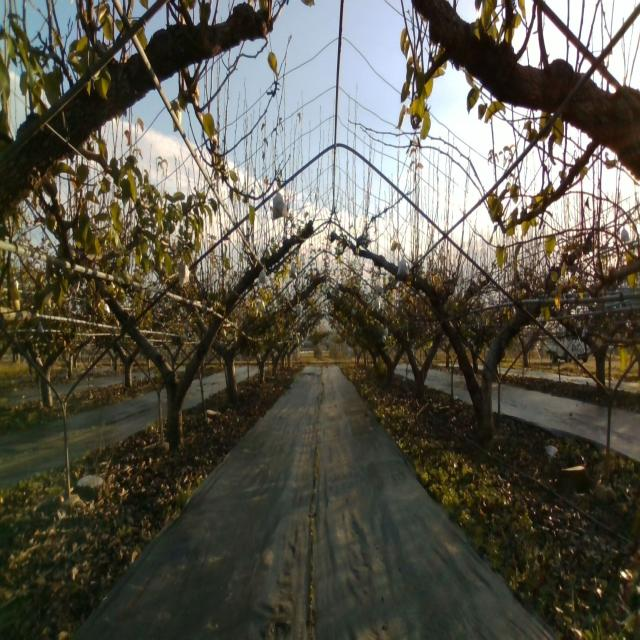pearbags: (272, 188, 289, 220), (177, 258, 190, 287), (396, 256, 411, 278)
